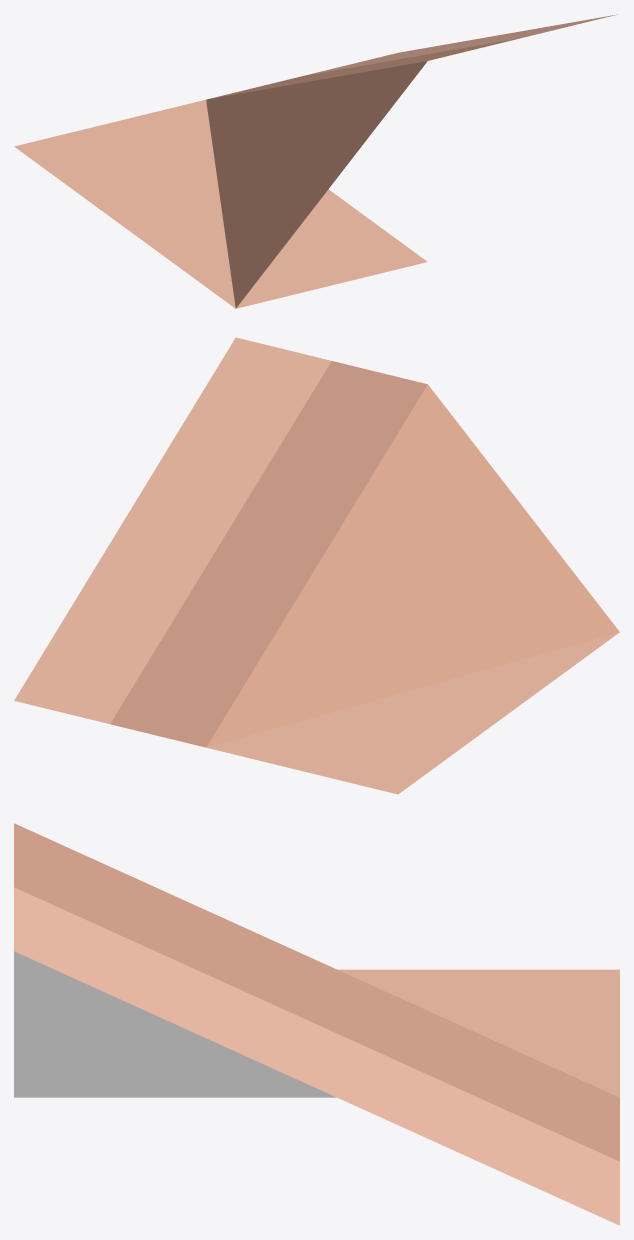
The model's file is terrainsideEndright-col.glb.
3 renders of one model, top to bottom at view 1: azimuth 30°, elevation 25°; view 2: azimuth 150°, elevation 25°; view 3: azimuth 270°, elevation 25°, orthographic. The views are drawn at different scales.
Visible parts, largest first — view 1: terrainsideEndright-col; view 2: terrainsideEndright-col; view 3: terrainsideEndright-col.
Boxes of the visible parts, x1,y1,x2,y2 form: terrainsideEndright-col: (14, 14, 616, 308); terrainsideEndright-col: (14, 337, 619, 794); terrainsideEndright-col: (14, 823, 619, 1225).
Bounding box in the file's own units: 1 × 0.5 × 1.
